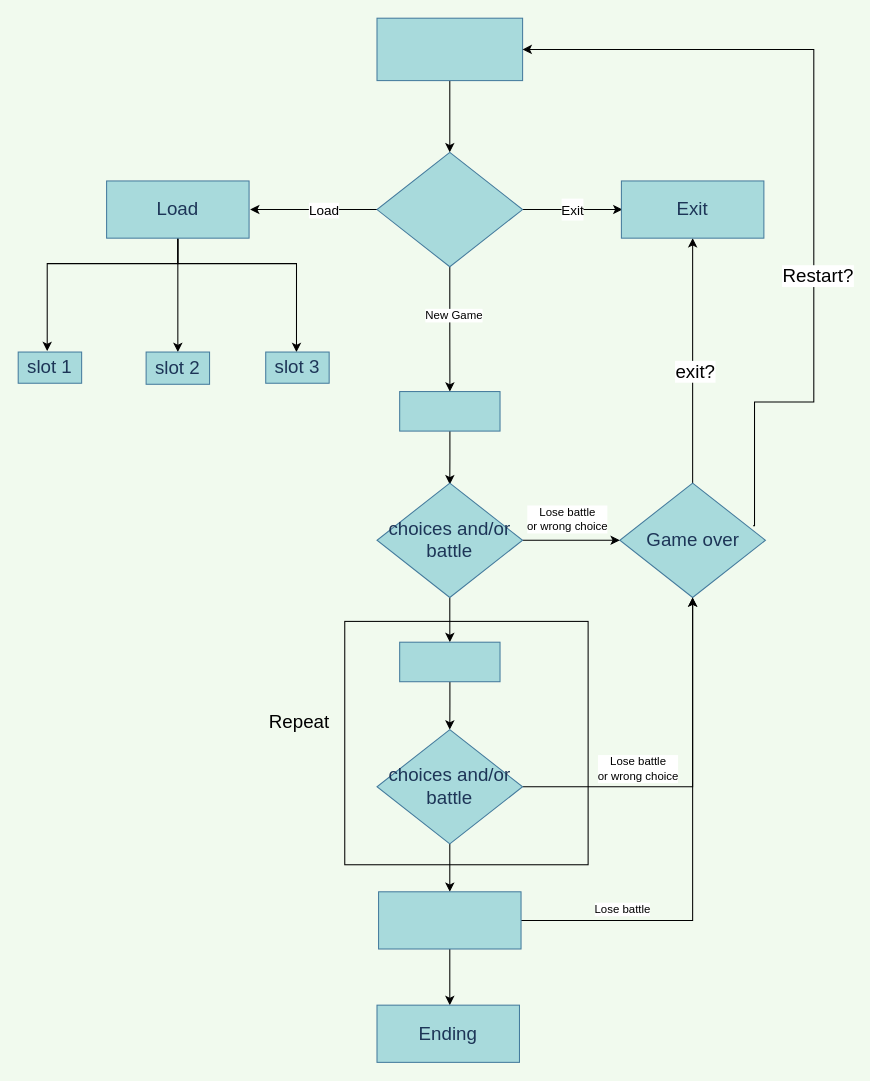
The diagram is 870 pixels wide and 1081 high, and some of its shapes have lost their labels. Here are the shapes that lost their labels. From the top down, the box of each, then its label:
(376, 17, 523, 81): App run
(376, 151, 523, 267): Game menu
(399, 391, 500, 431): Scene 1
(399, 641, 500, 682): Next scene
(378, 891, 521, 949): Boss fight
